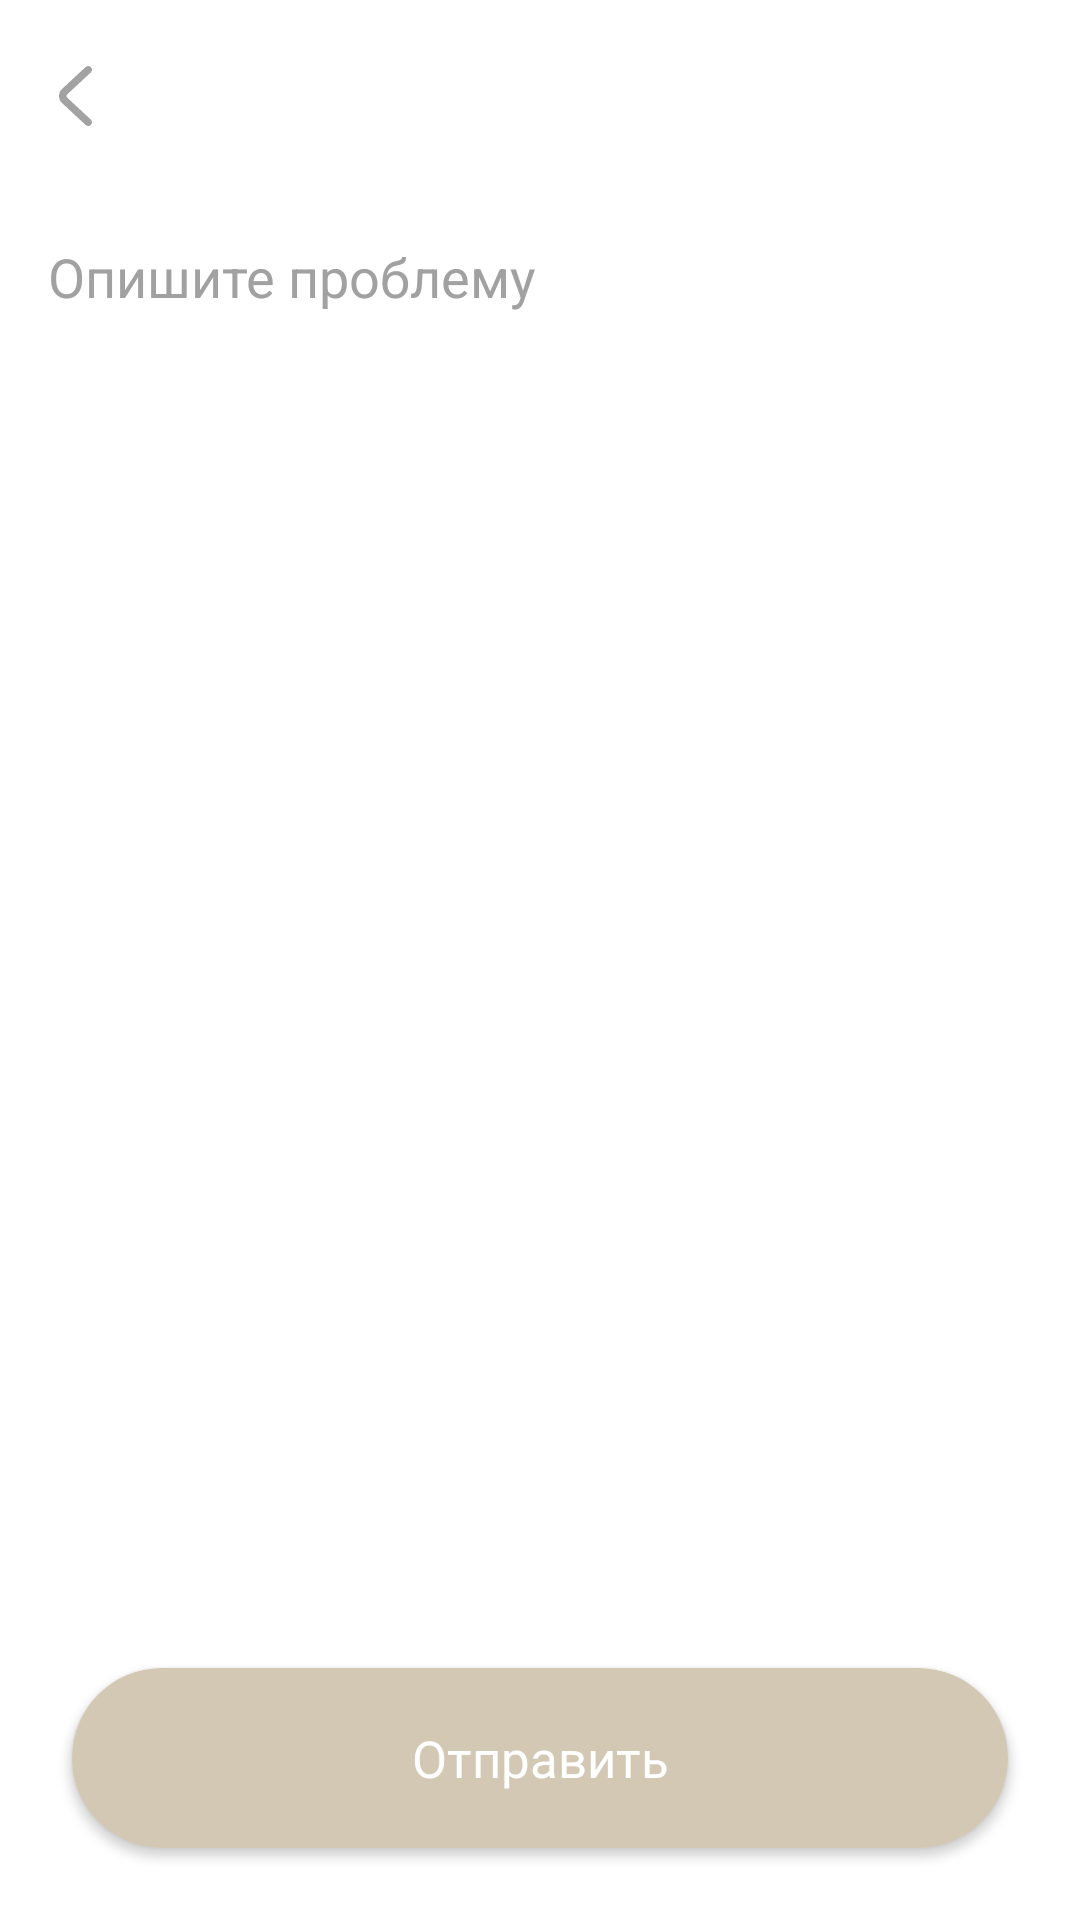

Locate icon controls on the screen. Image size 1080 x 1920, boxes as (x1, y1, x2, y2).
back: (59, 66, 92, 126)
